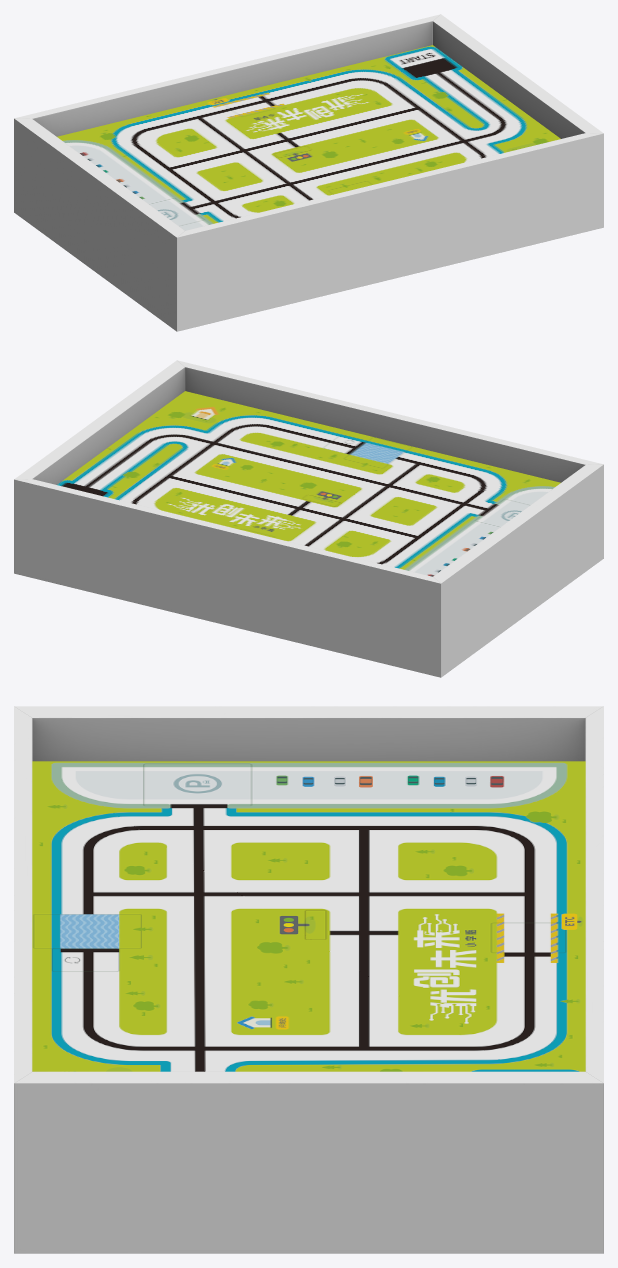
File: wutai_0423.fbx
The picture shows the model from 3 angles, top to bottom: view 1: azimuth 30°, elevation 25°; view 2: azimuth 150°, elevation 25°; view 3: azimuth 270°, elevation 25°; orthographic projection. The views are drawn at different scales.
Visible parts, largest first — view 1: zz_uf3d:polySurface1, polySurface2; view 2: zz_uf3d:polySurface1, polySurface2; view 3: polySurface2, zz_uf3d:polySurface1.
Part boxes in pixels (box(x1,y1,x2,y2)): zz_uf3d:polySurface1: box(14, 14, 603, 331); polySurface2: box(57, 45, 560, 230); zz_uf3d:polySurface1: box(14, 360, 603, 677); polySurface2: box(57, 391, 560, 576); polySurface2: box(32, 761, 585, 1071); zz_uf3d:polySurface1: box(14, 706, 603, 1253).
Bounding box in the file's own units: 9.94 × 2.09 × 6.57.
2 materials, 2 textured.
